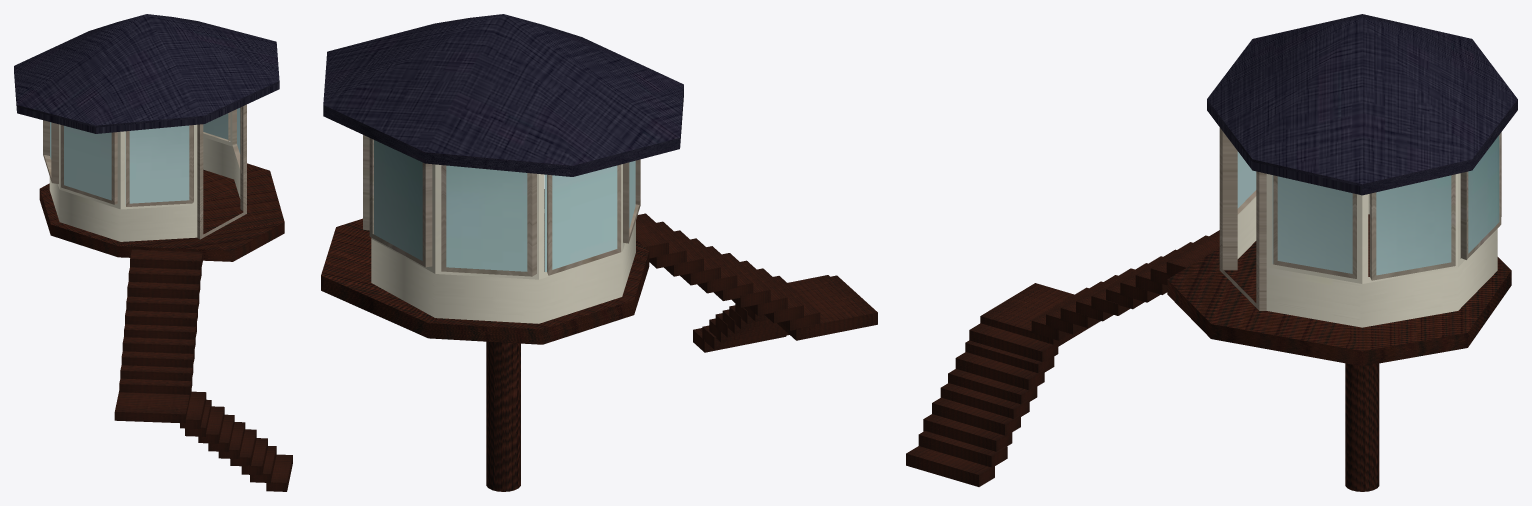
The model's file is Desert building4(05-05).FBX.
3 renders of one model, left to right at view 1: azimuth 30°, elevation 25°; view 2: azimuth 150°, elevation 25°; view 3: azimuth 270°, elevation 25°, orthographic. The views are drawn at different scales.
Parts seen in each view (by area): view 1: Cylinder004; view 2: Cylinder004; view 3: Cylinder004.
Part boxes in pixels (<box>): Cylinder004: <box>14,14,292,491</box>; Cylinder004: <box>321,14,877,491</box>; Cylinder004: <box>906,14,1517,491</box>.
Size of the model in its own units: 254 by 296 by 353.
